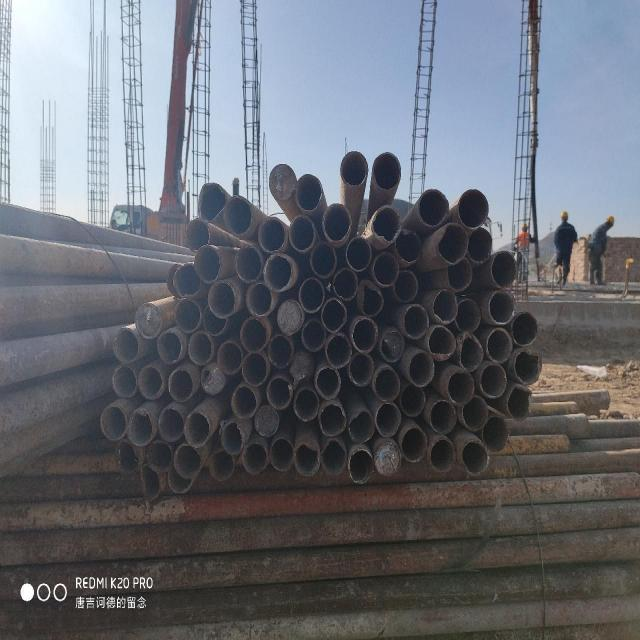pipe: (435, 220, 469, 267), (456, 187, 490, 229), (232, 242, 264, 286), (320, 200, 352, 244), (416, 187, 450, 228), (368, 202, 402, 243), (256, 214, 287, 255), (196, 181, 226, 223), (372, 148, 402, 190), (489, 248, 519, 290), (238, 315, 270, 354), (171, 442, 203, 481), (133, 300, 164, 340), (224, 193, 252, 237), (354, 277, 384, 318), (294, 171, 323, 213), (267, 162, 297, 202), (262, 252, 292, 292), (110, 324, 140, 364), (206, 280, 236, 320), (274, 297, 304, 337), (125, 407, 154, 448), (512, 348, 543, 386), (308, 240, 338, 278), (511, 310, 541, 348), (172, 296, 202, 334), (243, 280, 273, 318), (346, 448, 376, 486), (460, 439, 490, 477), (339, 149, 368, 188), (395, 225, 423, 265), (485, 326, 513, 366), (457, 334, 485, 374), (112, 436, 140, 476), (172, 261, 202, 298), (486, 288, 516, 325), (478, 362, 508, 399), (98, 404, 128, 441), (144, 438, 174, 475), (428, 437, 458, 474), (156, 406, 185, 444), (288, 214, 316, 253), (466, 225, 494, 264), (344, 234, 372, 273), (371, 249, 399, 288), (454, 296, 482, 335), (351, 315, 379, 354), (460, 393, 488, 432), (166, 365, 194, 404), (136, 463, 163, 503), (346, 409, 376, 445), (446, 368, 475, 405), (292, 441, 321, 478), (430, 287, 458, 325), (296, 275, 324, 313), (215, 338, 243, 376), (324, 332, 352, 370), (481, 415, 509, 453), (230, 384, 258, 422), (320, 439, 348, 477), (193, 244, 220, 283), (206, 448, 236, 483), (318, 402, 348, 437), (427, 325, 456, 361), (408, 349, 434, 389), (402, 303, 430, 340), (155, 328, 183, 365), (505, 385, 533, 422), (240, 350, 268, 387), (266, 334, 294, 371), (183, 411, 211, 448), (199, 360, 227, 397), (217, 420, 245, 457), (347, 351, 375, 388), (374, 402, 402, 439), (374, 442, 402, 479), (187, 328, 213, 367), (320, 297, 348, 333), (300, 317, 328, 353), (110, 363, 138, 399), (252, 403, 280, 439), (400, 427, 428, 463), (429, 399, 457, 435), (137, 364, 163, 402), (269, 436, 295, 474), (445, 257, 473, 292), (200, 302, 228, 337), (241, 442, 269, 477), (264, 375, 292, 410), (292, 388, 320, 423), (373, 367, 401, 402), (399, 383, 426, 419), (393, 268, 419, 305), (379, 327, 405, 364), (314, 366, 342, 400), (184, 216, 210, 251), (165, 463, 193, 495), (333, 268, 359, 301), (290, 352, 314, 384), (165, 261, 183, 299)
